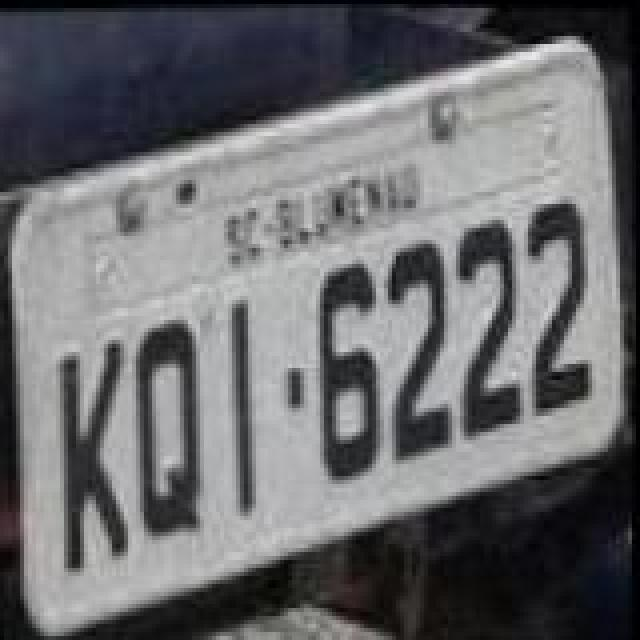1: (226, 288, 266, 520)
2: (446, 214, 530, 438), (380, 234, 460, 466), (520, 194, 600, 418)
6: (308, 258, 388, 486)
K: (54, 334, 138, 574)
Q: (132, 316, 216, 540)
